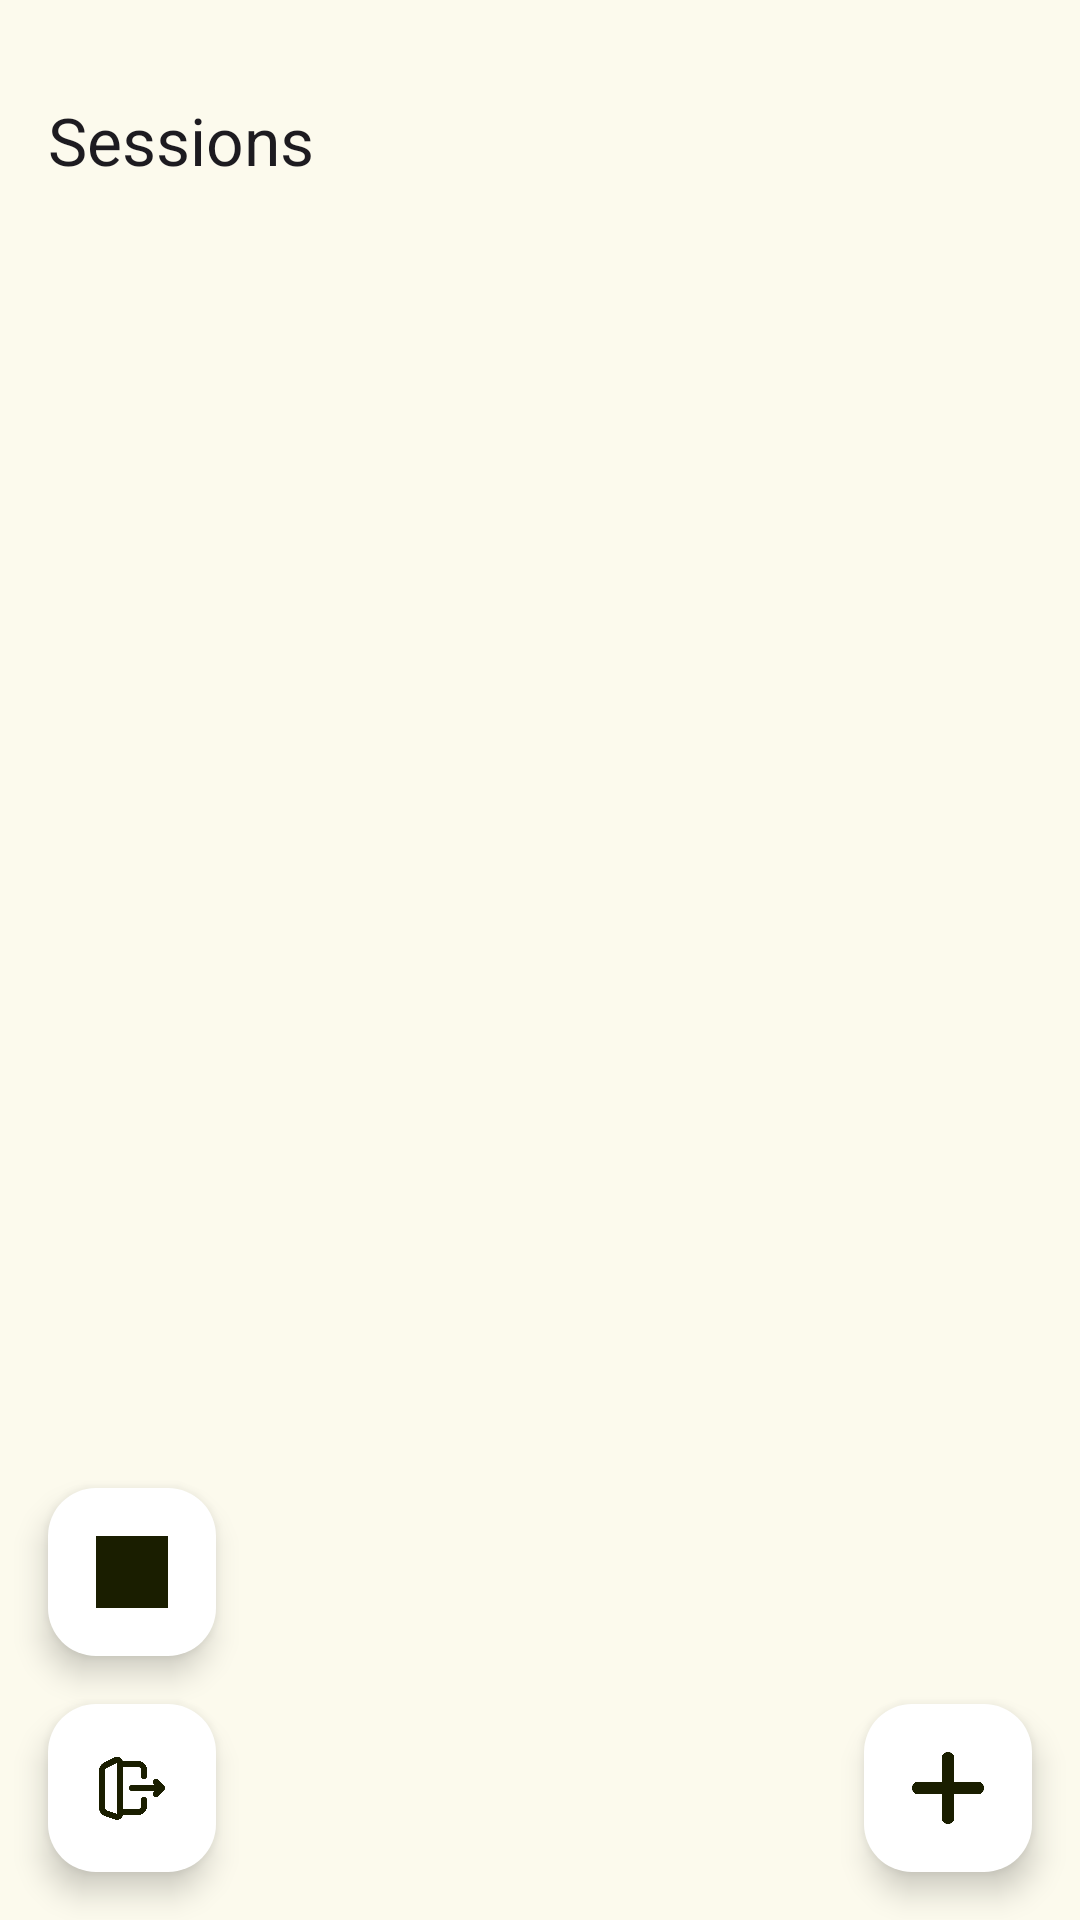

Icons on this 1080 x 1920 Android screen, each with the point to tap as point (x, y):
Add new session: point (948, 1788)
sign-out: point (132, 1788)
